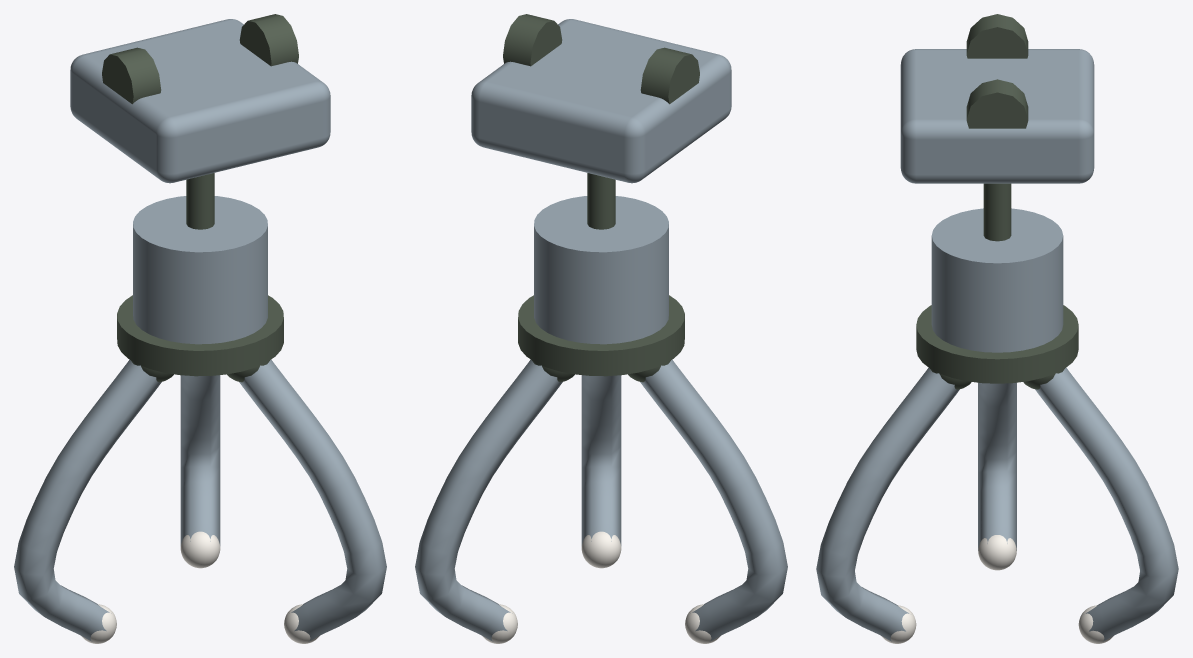
File: claw-rig.glb
3 views of the same model, side by side, from view 1: azimuth 30°, elevation 25°; view 2: azimuth 150°, elevation 25°; view 3: azimuth 270°, elevation 25° (orthographic). The views are drawn at different scales.
Parts seen in each view (by area): view 1: ClawRig_Batch0, ClawHoist_Batch0, ClawProng0_Batch1, ClawProng1_Batch1, ClawProng2_Batch1, ClawHoist_Batch1, ClawRig_Batch1, ClawCable_Batch0, ClawProng2_Batch0, ClawProng0_Batch0, ClawProng1_Batch0; view 2: ClawRig_Batch0, ClawHoist_Batch0, ClawProng0_Batch1, ClawProng2_Batch1, ClawProng1_Batch1, ClawHoist_Batch1, ClawRig_Batch1, ClawCable_Batch0, ClawProng1_Batch0, ClawProng0_Batch0, ClawProng2_Batch0; view 3: ClawRig_Batch0, ClawHoist_Batch0, ClawProng1_Batch1, ClawProng2_Batch1, ClawProng0_Batch1, ClawHoist_Batch1, ClawRig_Batch1, ClawCable_Batch0, ClawProng0_Batch0, ClawProng1_Batch0, ClawProng2_Batch0.
Boxes of the visible parts, x1,y1,x2,y2 form: ClawRig_Batch0: (70, 19, 330, 183); ClawHoist_Batch0: (133, 196, 267, 344); ClawProng0_Batch1: (14, 359, 161, 641); ClawProng1_Batch1: (239, 359, 386, 641); ClawProng2_Batch1: (180, 375, 220, 545); ClawHoist_Batch1: (117, 295, 283, 376); ClawRig_Batch1: (102, 14, 298, 104); ClawCable_Batch0: (186, 173, 214, 229); ClawProng2_Batch0: (180, 531, 220, 568); ClawProng0_Batch0: (81, 360, 173, 643); ClawProng1_Batch0: (227, 360, 319, 643); ClawRig_Batch0: (471, 19, 731, 183); ClawHoist_Batch0: (534, 196, 668, 344); ClawProng0_Batch1: (640, 359, 787, 641); ClawProng2_Batch1: (415, 359, 562, 641); ClawProng1_Batch1: (581, 375, 621, 545); ClawHoist_Batch1: (518, 295, 684, 376); ClawRig_Batch1: (503, 14, 699, 104); ClawCable_Batch0: (587, 173, 615, 229); ClawProng1_Batch0: (581, 531, 621, 568); ClawProng0_Batch0: (628, 360, 720, 643); ClawProng2_Batch0: (482, 360, 574, 643); ClawRig_Batch0: (900, 49, 1094, 183); ClawHoist_Batch0: (931, 208, 1063, 352); ClawProng1_Batch1: (816, 367, 959, 641); ClawProng2_Batch1: (1035, 367, 1178, 641); ClawProng0_Batch1: (978, 382, 1016, 550); ClawHoist_Batch1: (916, 305, 1078, 383); ClawRig_Batch1: (966, 14, 1028, 128); ClawCable_Batch0: (983, 183, 1011, 241); ClawProng0_Batch0: (978, 535, 1016, 570); ClawProng1_Batch0: (881, 369, 971, 643); ClawProng2_Batch0: (1023, 369, 1113, 643).
Size of the model in its own units: 0.0406 by 0.0805 by 0.0469.
